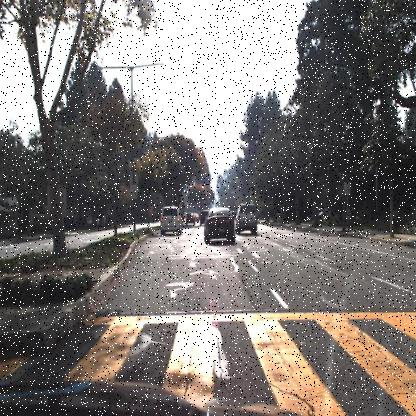car: (202, 205, 236, 245), (159, 204, 182, 240), (236, 202, 258, 236), (199, 208, 213, 229), (187, 212, 197, 228)
